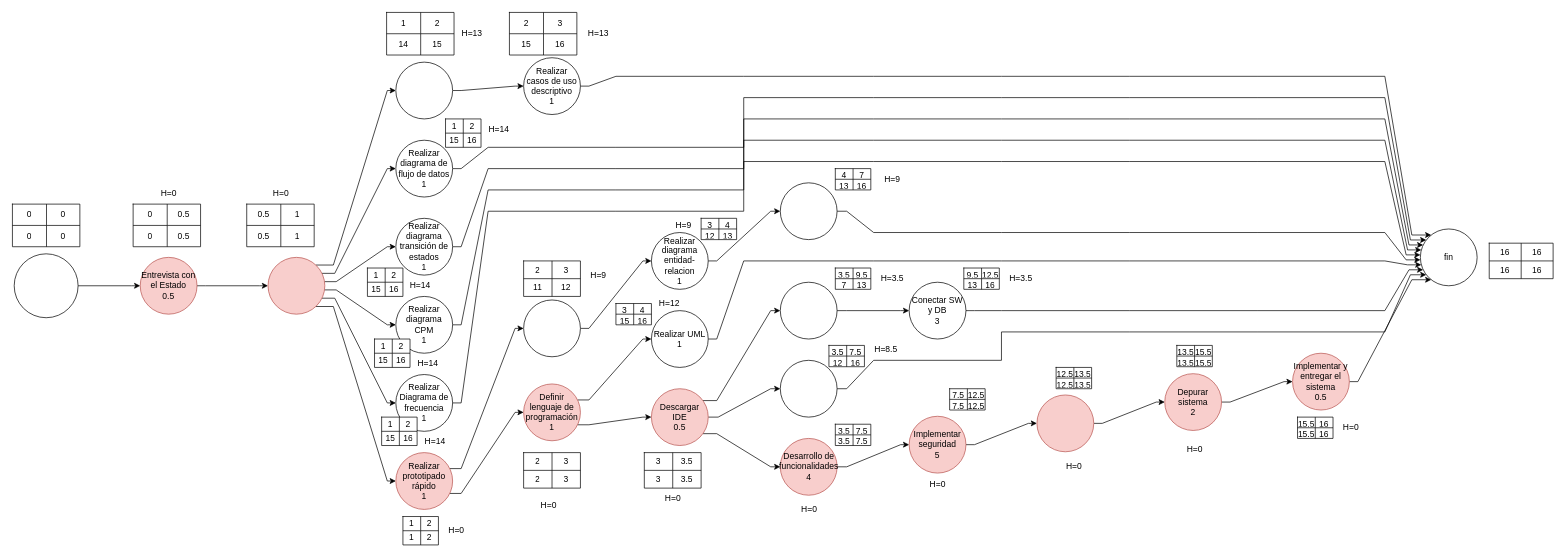
This 1566x557 diagram has some shape labels left out. Here are the shapes that lost their labels. From the top down, the centre of each, then its label:
[424,90]: Realizar diagrama casos de uso 1
[808,211]: Crear BD y desarrollar sus estructuras 3
[45,285]: INICIO
[296,285]: Encuesta a los encargados de los votos 0.5
[551,328]: Definir DB a utilizar 1
[808,310]: Desarrollar interfaz 6
[808,388]: Desarrollar roles 4
[1065,423]: Testear sistema 1
